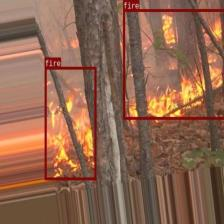fire: (122, 8, 224, 118), (44, 66, 96, 180)
